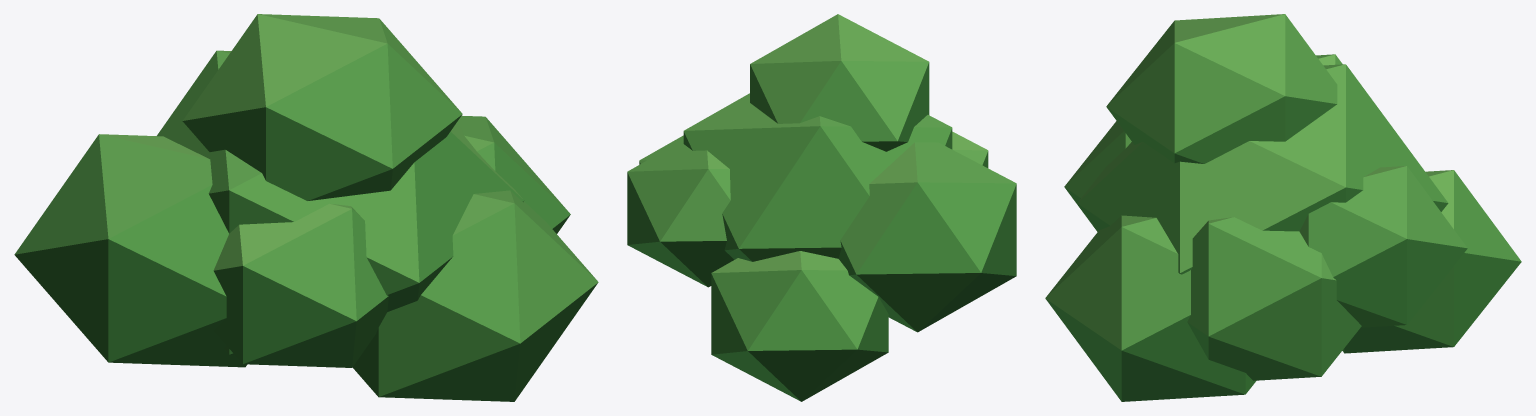
Rendered from TreeCanopy_0.glb.
3 views of the same model, side by side, from view 1: azimuth 30°, elevation 25°; view 2: azimuth 150°, elevation 25°; view 3: azimuth 270°, elevation 25° (orthographic). The views are drawn at different scales.
Visible parts, largest first — view 1: TreeCanopy_0; view 2: TreeCanopy_0; view 3: TreeCanopy_0.
Boxes of the visible parts, bbox=[...] form: TreeCanopy_0: bbox=[14, 14, 598, 401]; TreeCanopy_0: bbox=[627, 14, 1016, 401]; TreeCanopy_0: bbox=[1045, 14, 1521, 401].
Size of the model in its own units: 11.16 by 8.22 by 10.78.
Materials: 1 (1 with a texture image).
